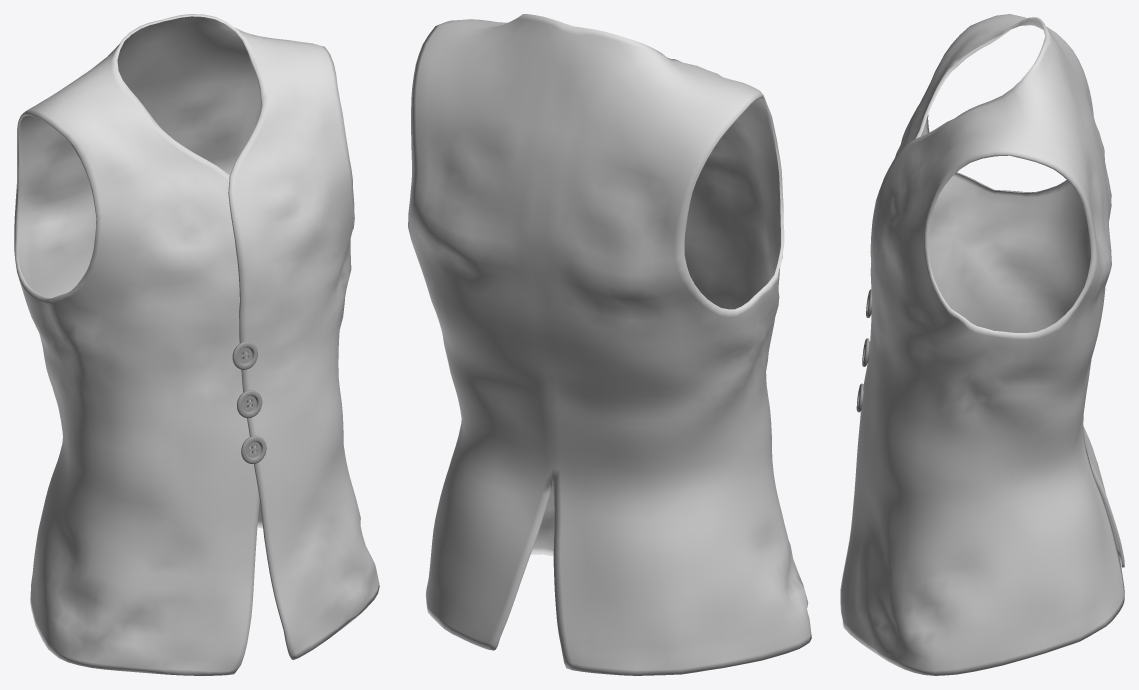
Rendered from final_gile.glb.
3 views of the same model, side by side, from view 1: azimuth 30°, elevation 25°; view 2: azimuth 150°, elevation 25°; view 3: azimuth 270°, elevation 25° (orthographic). The views are drawn at different scales.
Parts seen in each view (by area): view 1: NEW VEST, kitaki5_Default_Material_0.001, kitaki5, kitaki5_Default_Material_0.002; view 2: NEW VEST; view 3: NEW VEST.
Part boxes in pixels (<box>): NEW VEST: <box>14,14,379,675</box>; kitaki5_Default_Material_0.001: <box>241,435,266,463</box>; kitaki5: <box>237,389,262,418</box>; kitaki5_Default_Material_0.002: <box>232,341,257,369</box>; NEW VEST: <box>408,14,811,675</box>; NEW VEST: <box>840,14,1124,675</box>.
Size of the model in its own units: 0.4619 by 0.7931 by 0.3535.
Materials: 2 (1 with a texture image).
